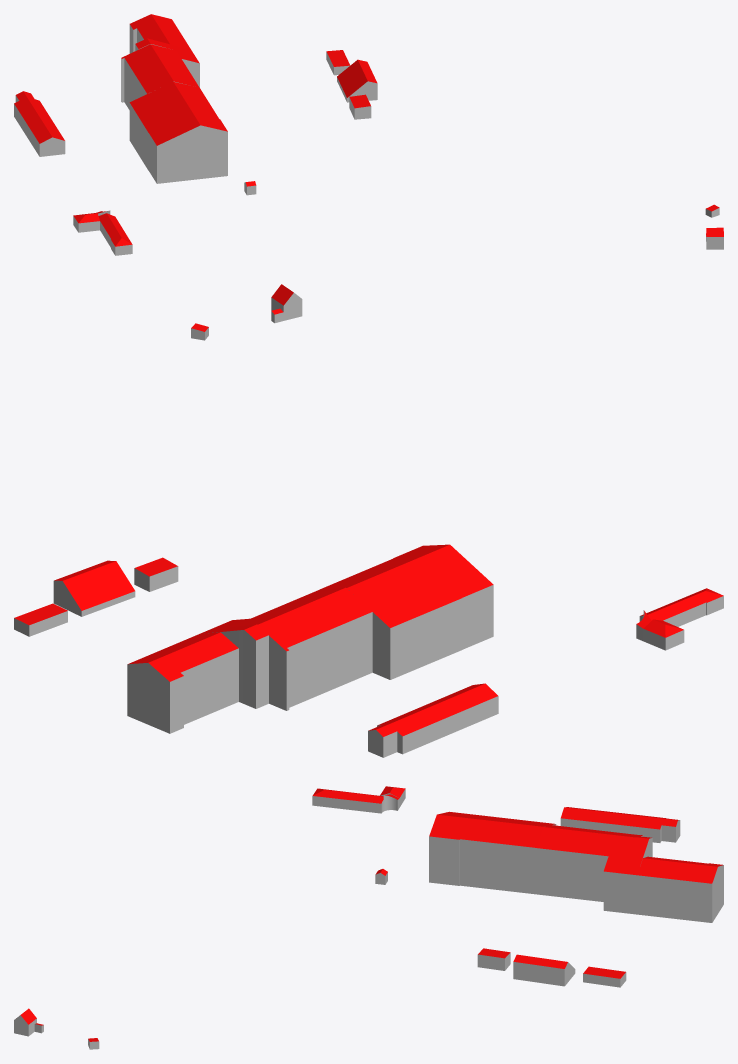
3 views of the same model, one above another, from view 1: azimuth 30°, elevation 25°; view 2: azimuth 150°, elevation 25°; view 3: azimuth 270°, elevation 25° (orthographic). The views are drawn at different scales.
Size of the model in its own units: 156 by 16.19 by 184.
